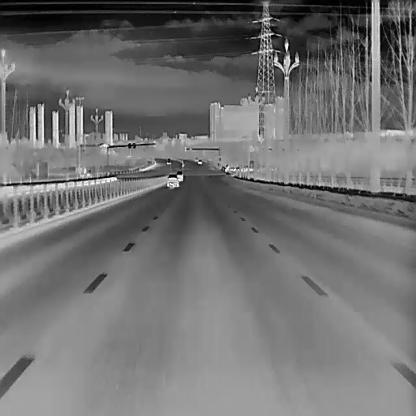car: (166, 173, 178, 188), (176, 170, 183, 180), (196, 158, 202, 163), (166, 159, 171, 164)
